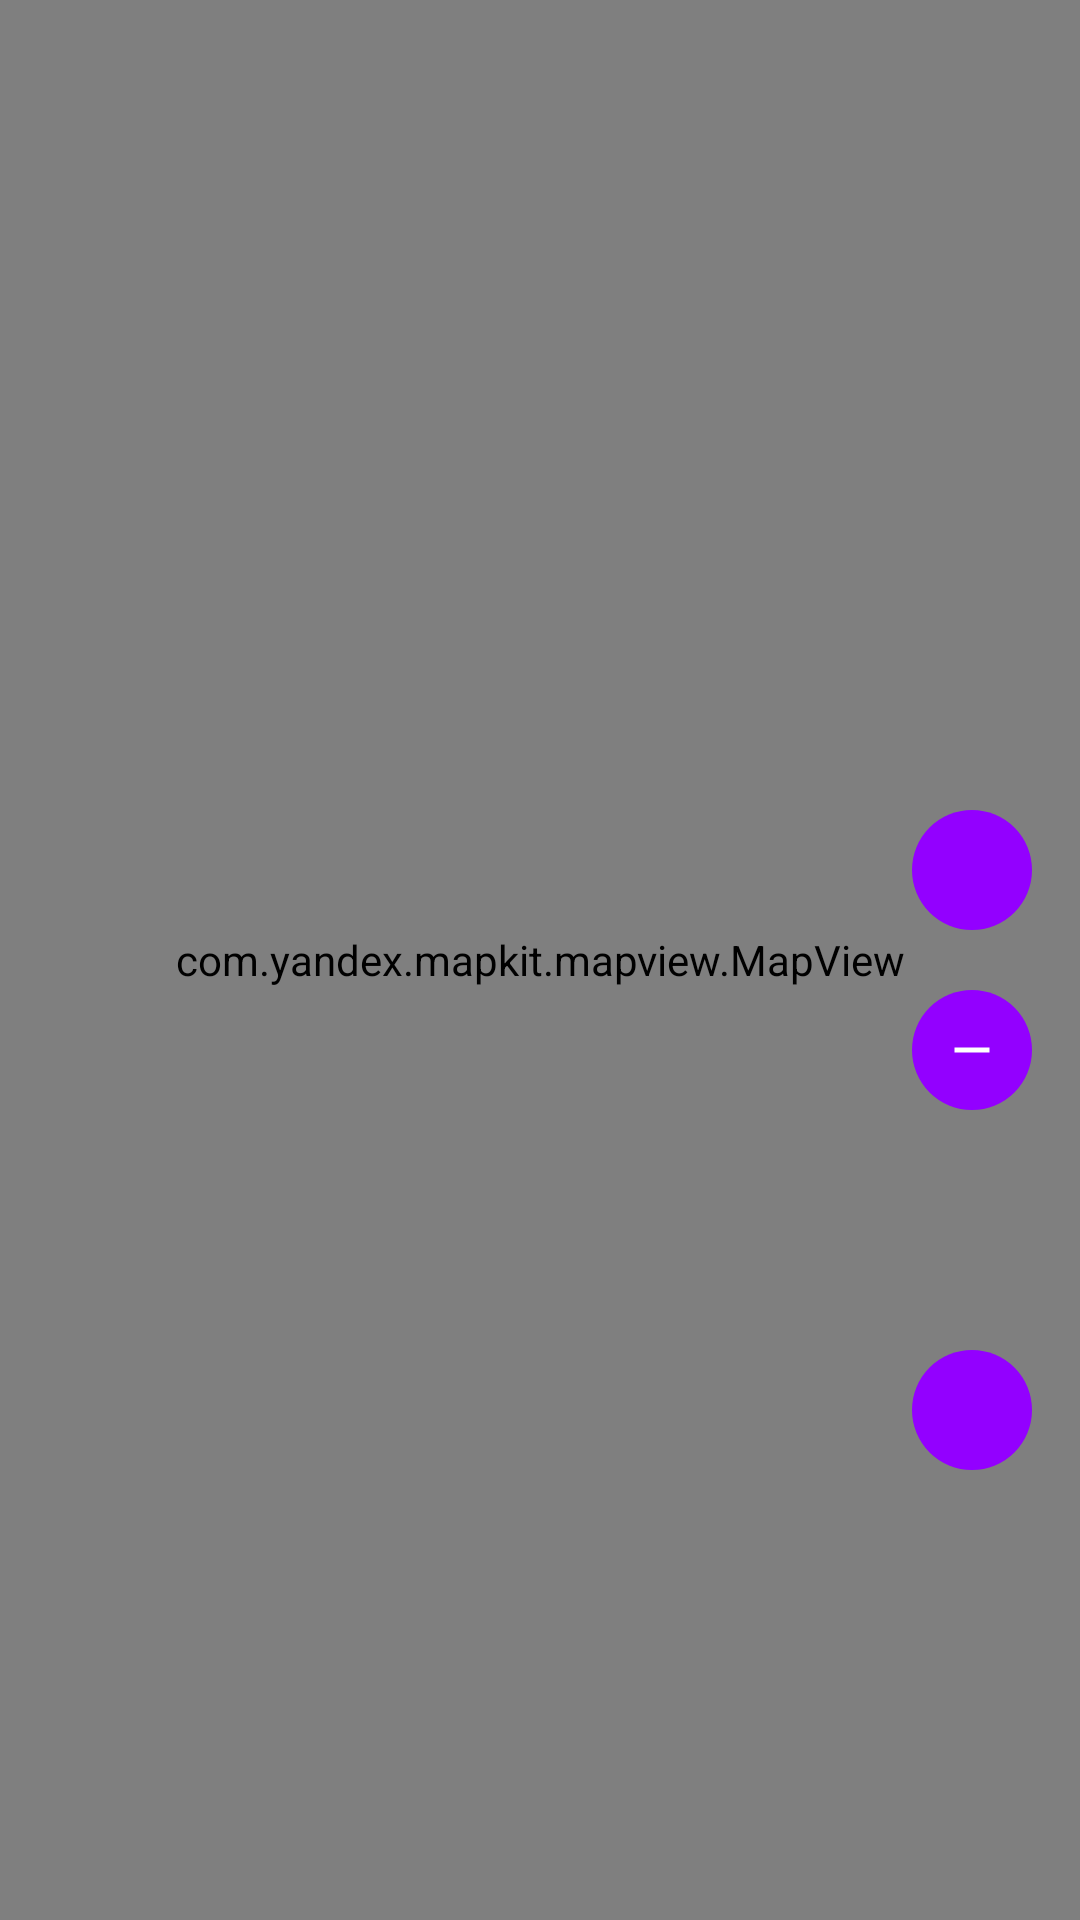

Point at icon controls on the screen. Image size 1080×1920, points as (x,y).
minus: (972,1050)
